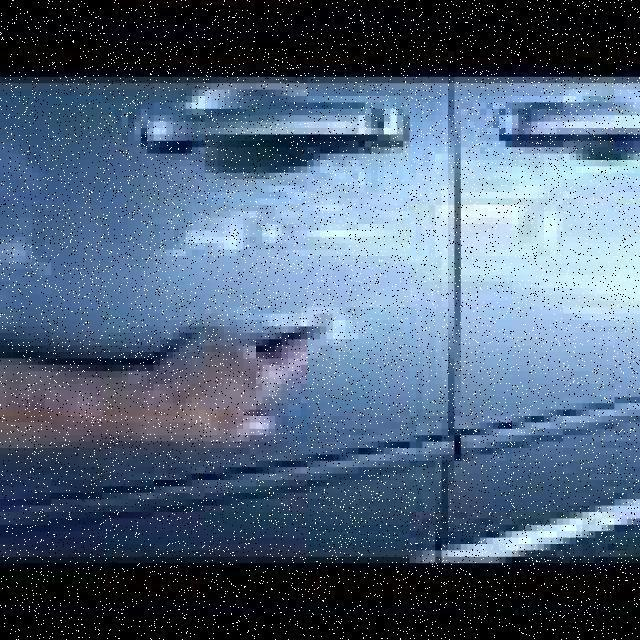fender: (0, 83, 461, 576), (455, 71, 634, 564)
